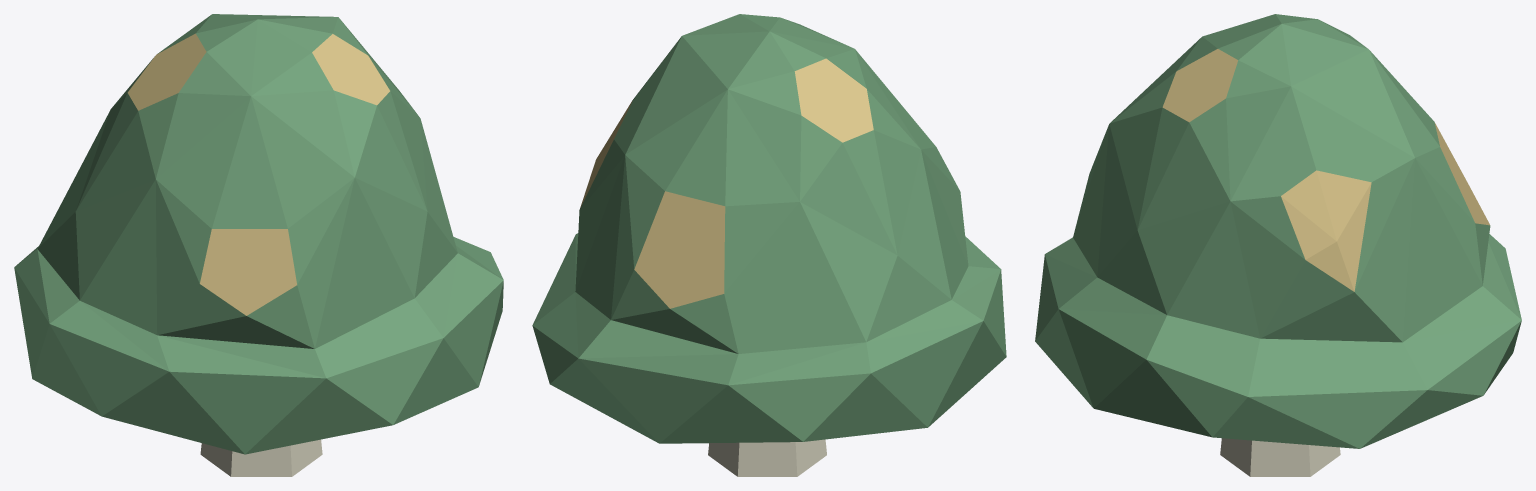
The model's file is resource__plant__mushroom_rounded_tall.fbx.
3 views of the same model, side by side, from view 1: azimuth 30°, elevation 25°; view 2: azimuth 150°, elevation 25°; view 3: azimuth 270°, elevation 25° (orthographic). The views are drawn at different scales.
Parts seen in each view (by area): view 1: Mushroom_rounded_tall; view 2: Mushroom_rounded_tall; view 3: Mushroom_rounded_tall.
Part boxes in pixels (bbox=[...]): Mushroom_rounded_tall: bbox=[14, 14, 503, 476]; Mushroom_rounded_tall: bbox=[532, 14, 1006, 476]; Mushroom_rounded_tall: bbox=[1035, 14, 1521, 476].
Size of the model in its own units: 105 by 102 by 104.
